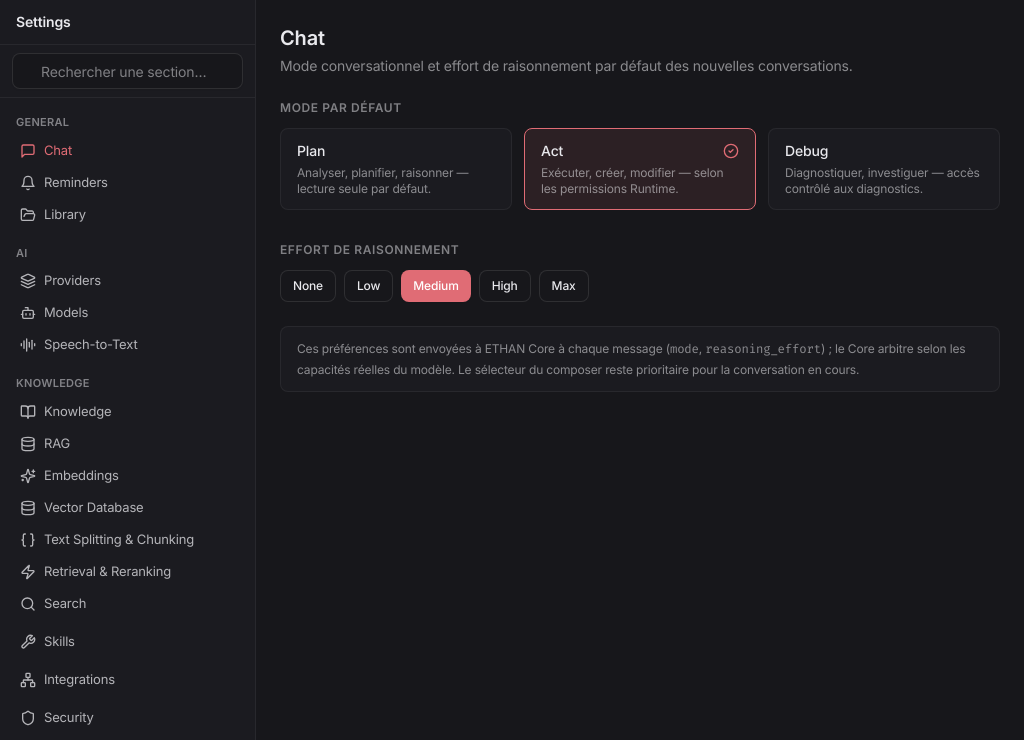
Test case: Settings → RAG — section first-class restaurée › expose la stratégie de recherche fournie par le Core (aucune stratégie inventée côté UI)
The image size is (1024, 740).
Click the button "RAG": [128, 444] box x1=8 y1=428 x2=247 y2=460
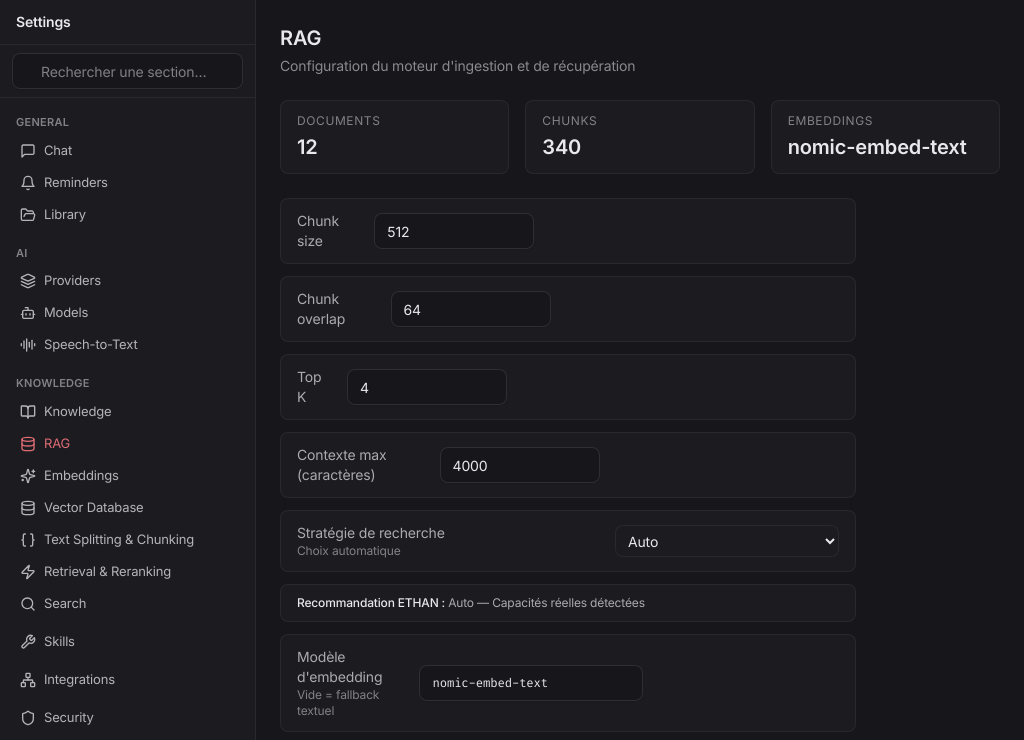
Expected: the dropdown shows "Auto", x1=615 y1=525 x2=839 y2=557
Expected: the text "Recommandation ETHAN :" is shown, x1=297 y1=595 x2=448 y2=610
